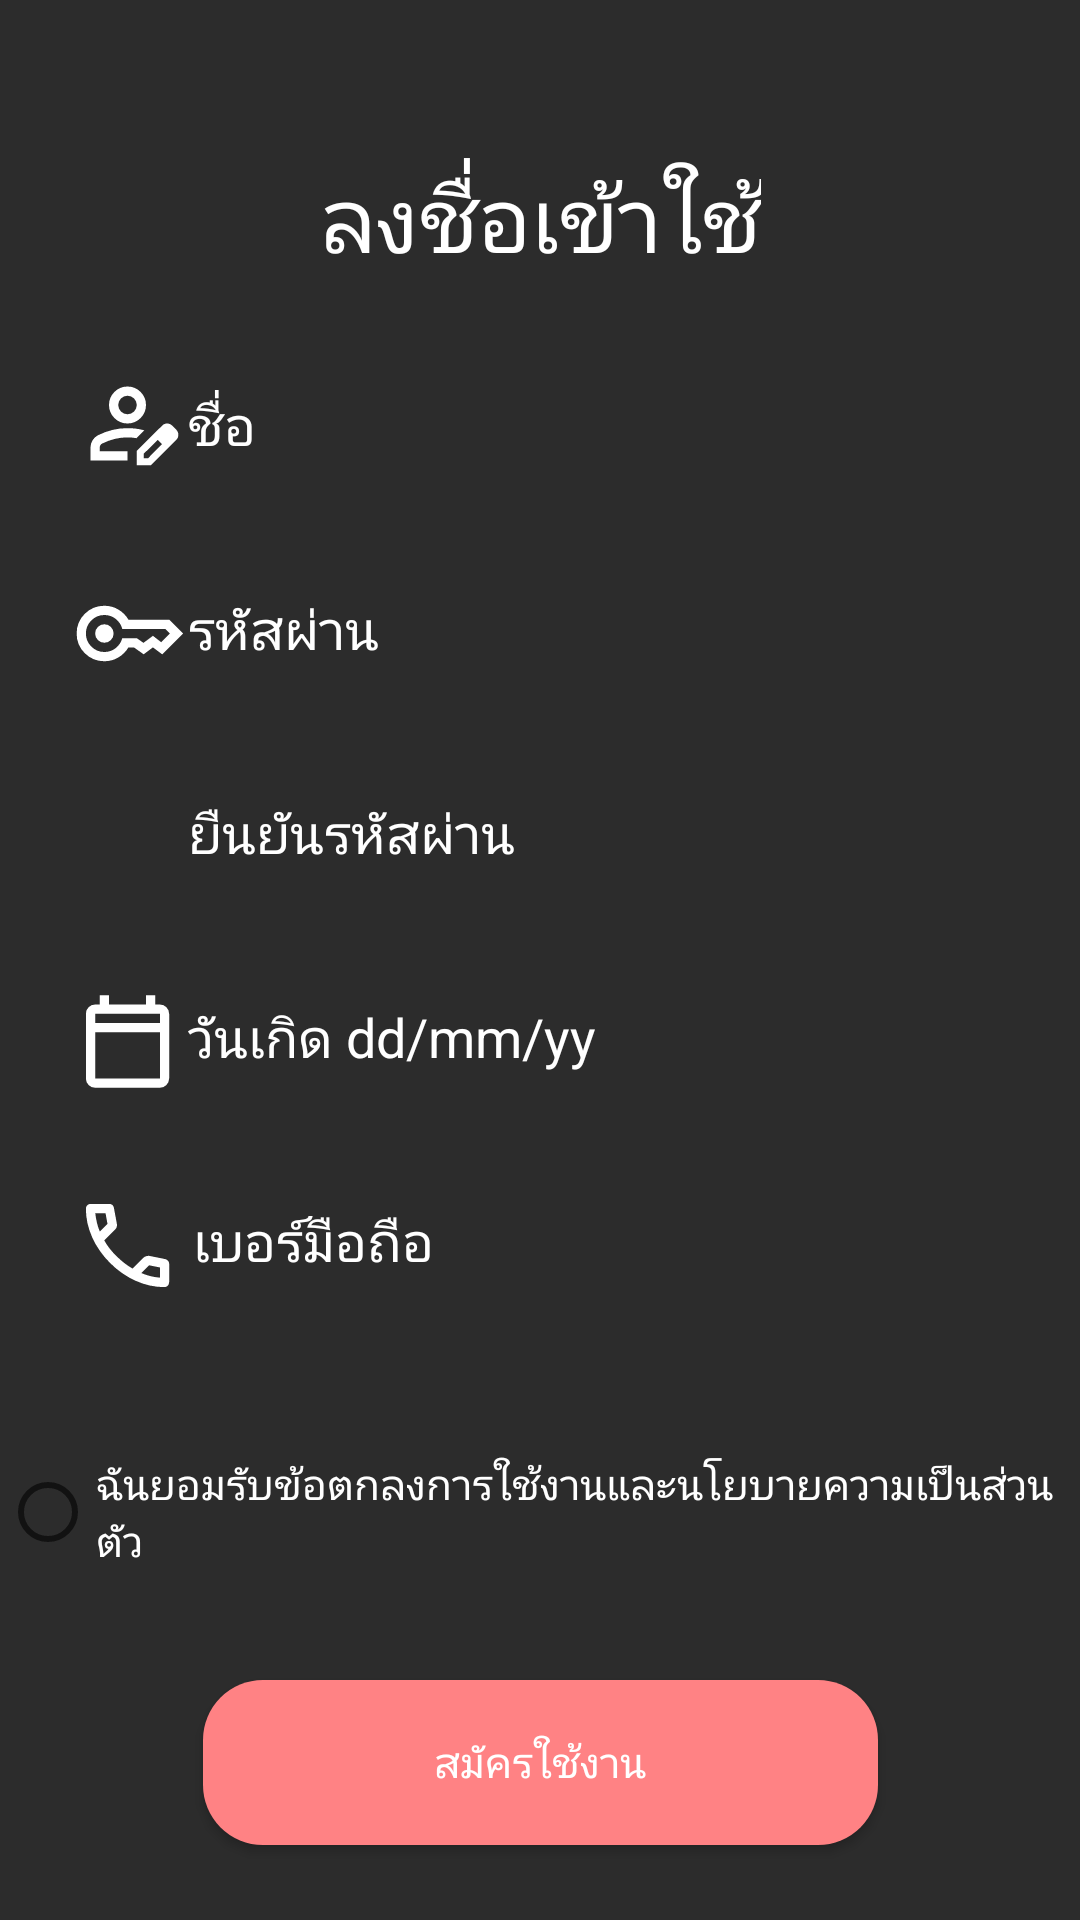

Where to tap for icons on this 1080w x 1920h app screen, as (x,y):
Calendar: (128,1041)
Key: (129,633)
Phone Icon: (128,1245)
User Icon: (134,426)
